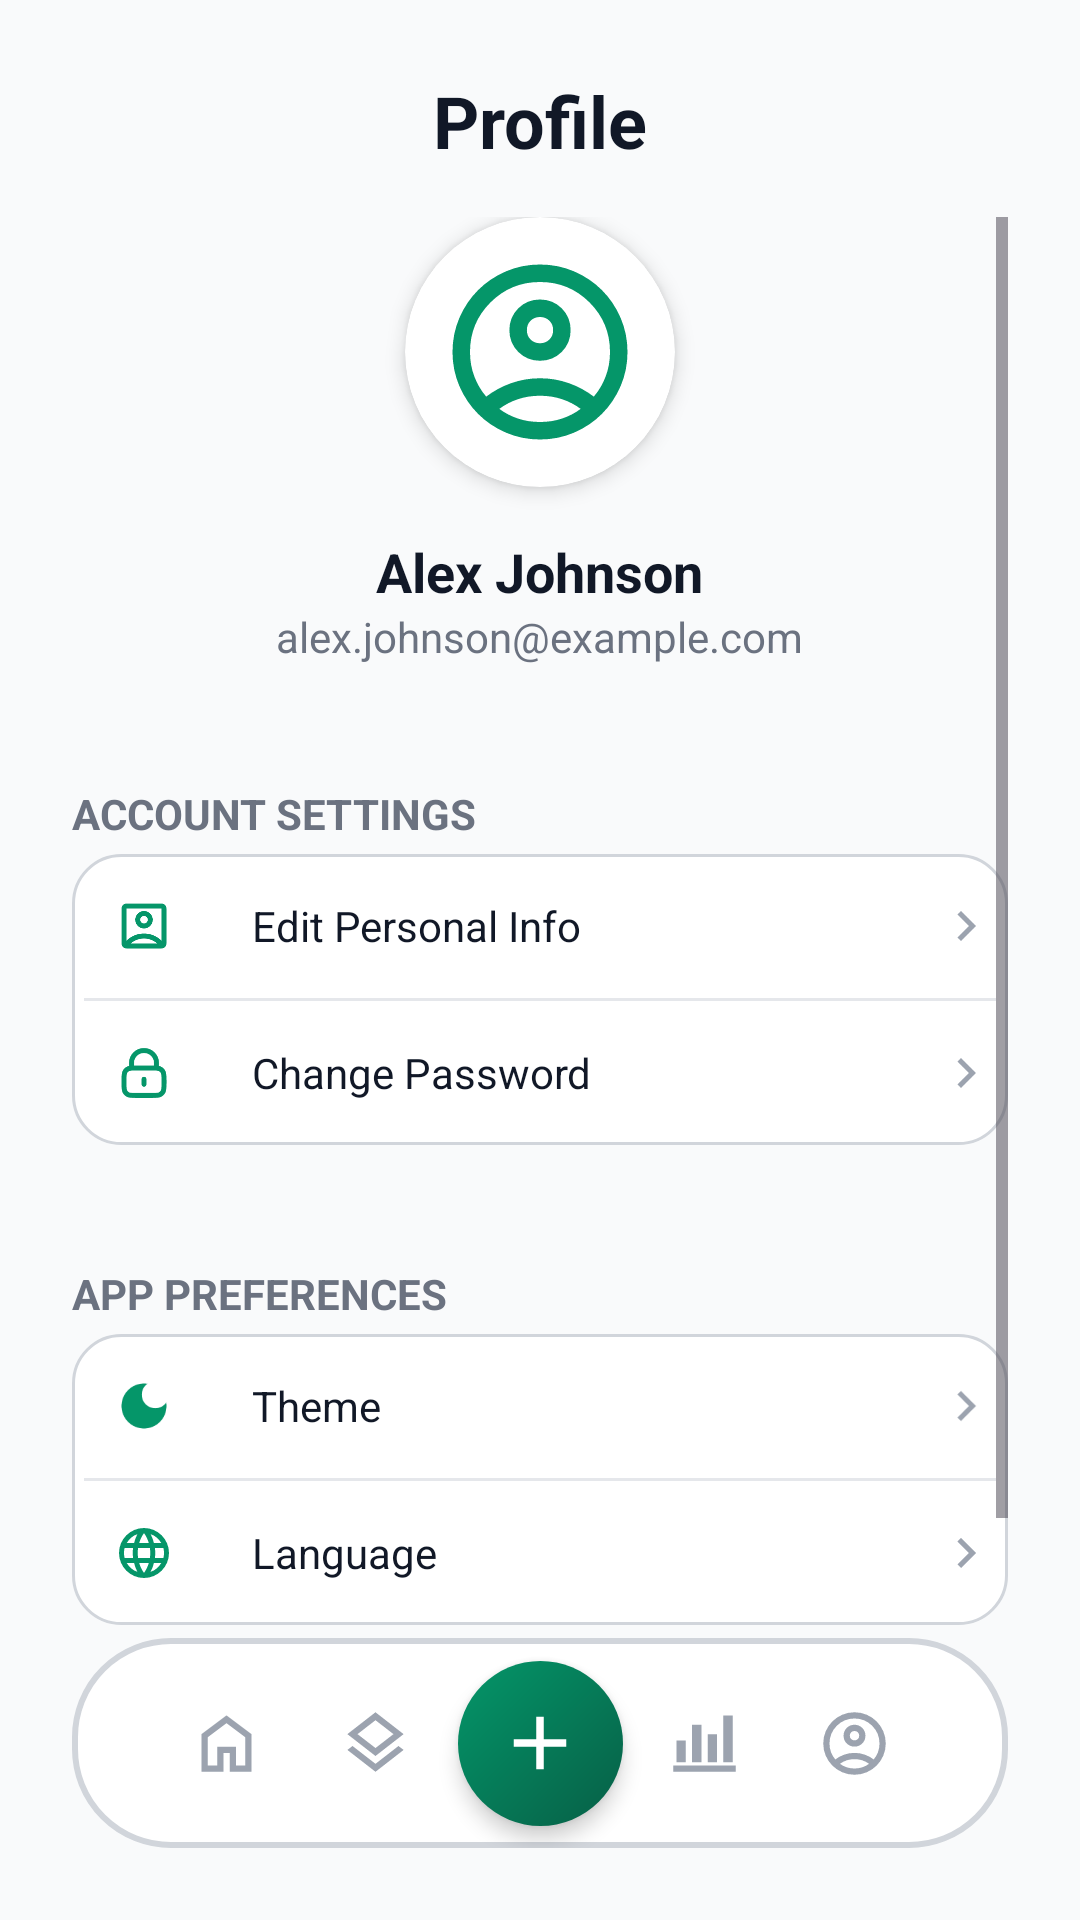

Where to tap for icons on this 1080w x 1920h app screen, as [x,y]:
add: [540,1743]
category: [375,1742]
chart: [704,1743]
home: [226,1743]
lock: [144,1073]
moon: [144,1406]
